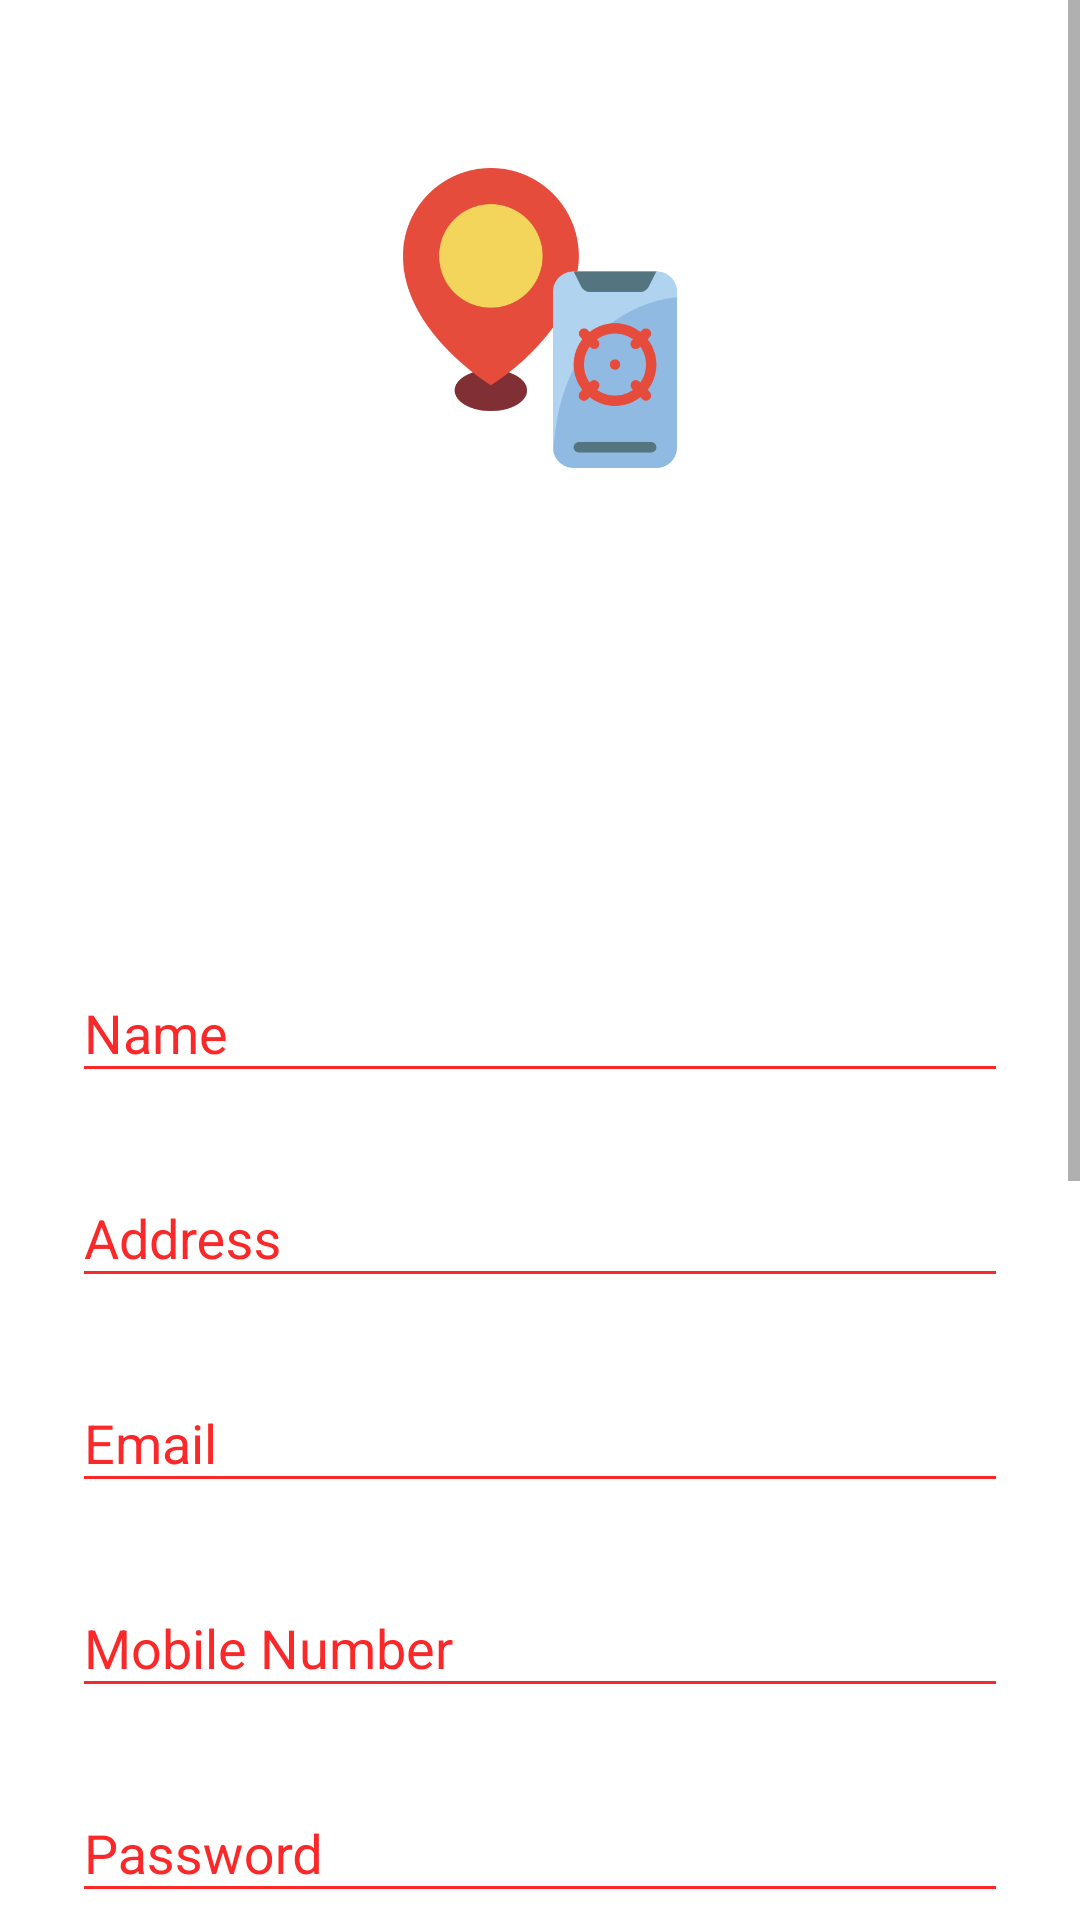

Icons on this 1080*1920 Android screen, each with its box as detection(x1, y1, x2, y2):
smartphone: detection(403, 168, 677, 468)
